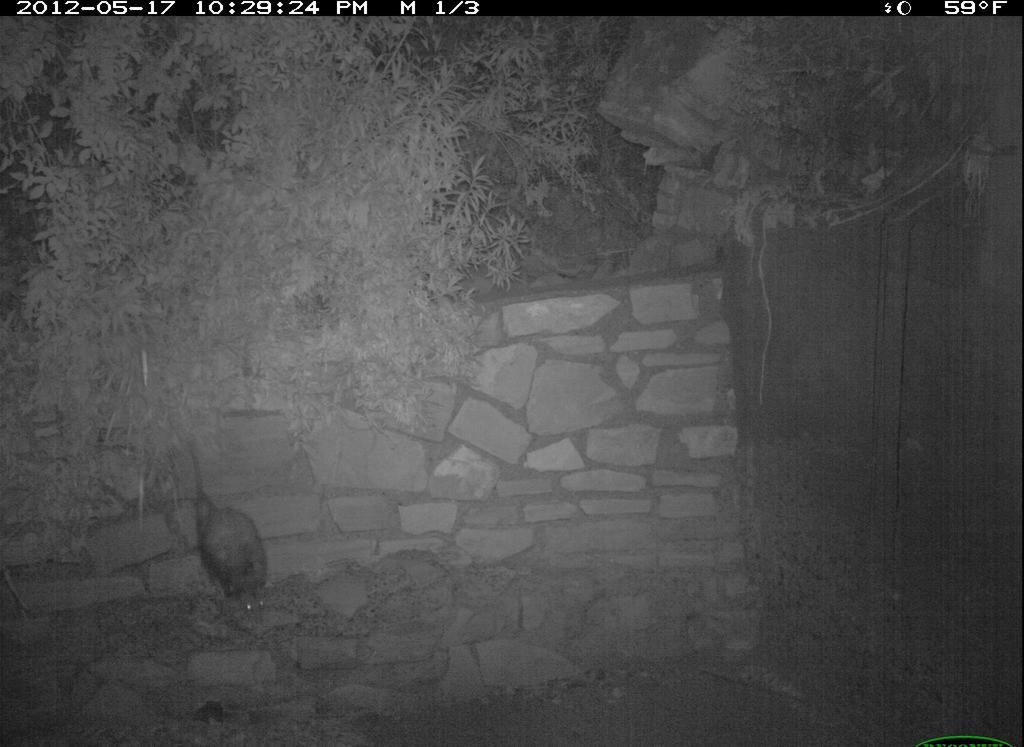opossum: (177, 442, 282, 634)
